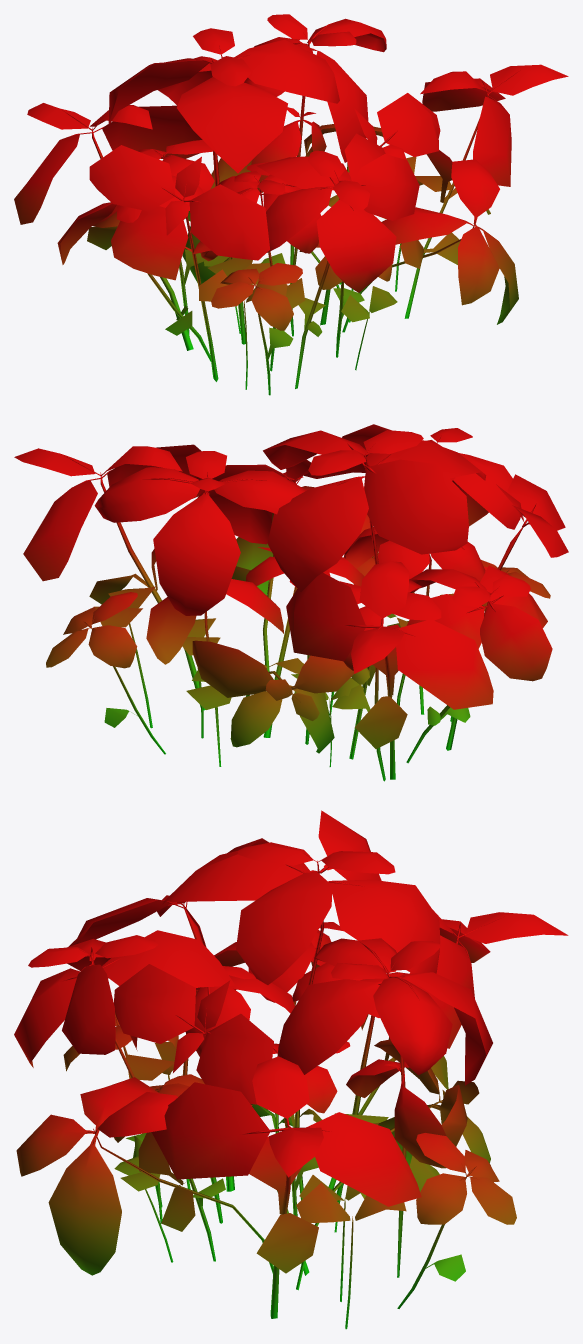
The model's file is Basil_LOD3_Var7_vgpochzia.fbx.
3 renders of one model, top to bottom at view 1: azimuth 30°, elevation 25°; view 2: azimuth 150°, elevation 25°; view 3: azimuth 270°, elevation 25°, orthographic. The views are drawn at different scales.
Parts seen in each view (by area): view 1: _ond3_Var7_LOD3; view 2: _ond3_Var7_LOD3; view 3: _ond3_Var7_LOD3.
Boxes of the visible parts, <box> form: _ond3_Var7_LOD3: <box>14,14,568,395</box>; _ond3_Var7_LOD3: <box>14,424,568,781</box>; _ond3_Var7_LOD3: <box>14,810,568,1329</box>.
Bounding box in the file's own units: 31.29 × 17.79 × 24.25.
